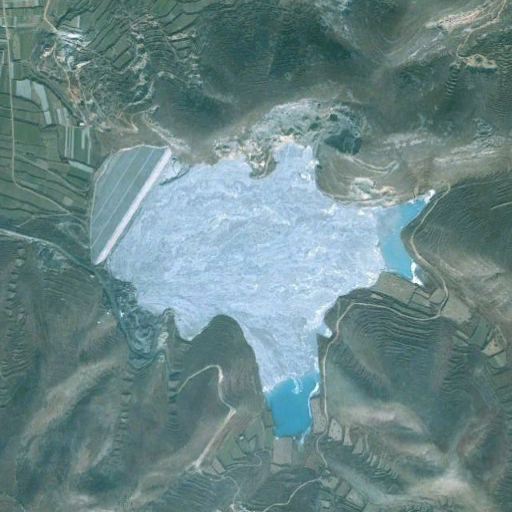tp: (89, 133, 439, 437)
